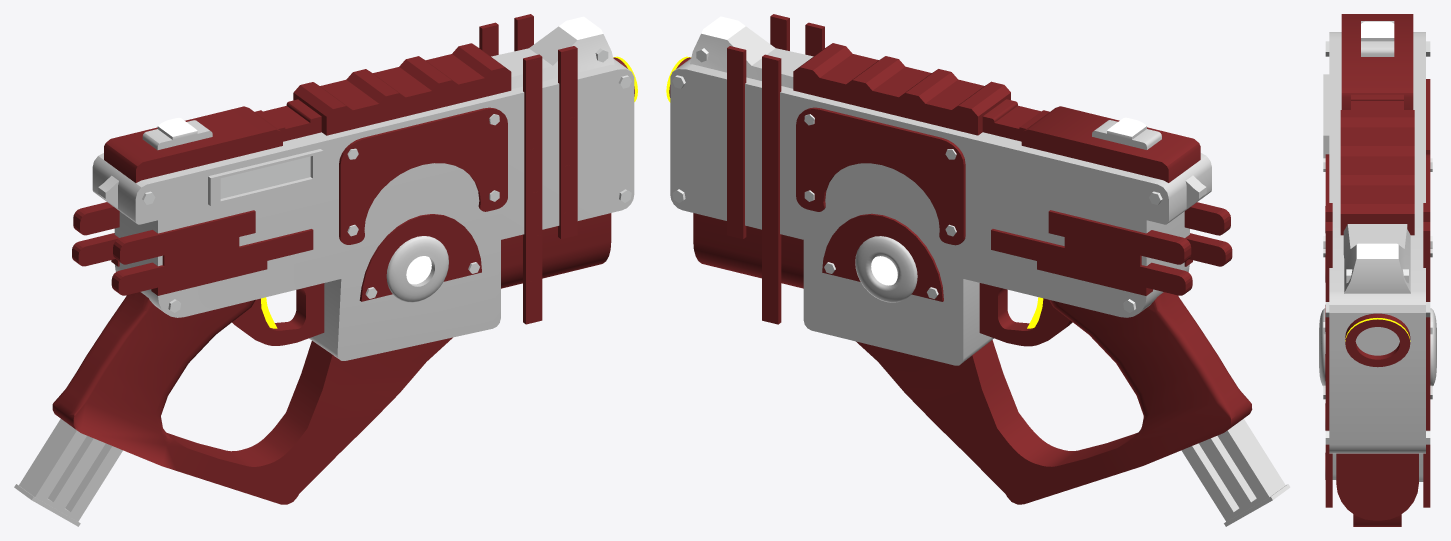
Rendered from AronsGunFinal1.fbx.
3 views of the same model, side by side, from view 1: azimuth 30°, elevation 25°; view 2: azimuth 150°, elevation 25°; view 3: azimuth 270°, elevation 25° (orthographic). The views are drawn at different scales.
Visible parts, largest first — view 1: Cube.009, Cube.027, Cube.022, Cube.028, Cube.020, Cube.019, Cube.018, Cylinder.004, Cylinder.014; view 2: Cube.009, Cube.027, Cube.022, Cube.028, Cube.020, Cube.019, Cylinder.004, Cylinder.014; view 3: Cube.009, Cube.028, Cube.027, Cube.020, Cylinder.014, Cylinder.004, Cube.022, Cube.018.
Boxes of the visible parts, x1,y1,x2,y2 form: Cube.009: (92, 58, 634, 360); Cube.027: (52, 56, 637, 504); Cube.022: (72, 107, 507, 301); Cube.028: (104, 16, 614, 182); Cube.020: (479, 14, 577, 324); Cube.019: (14, 419, 122, 526); Cube.018: (208, 149, 323, 205); Cylinder.004: (386, 236, 448, 302); Cylinder.014: (142, 48, 631, 312); Cube.009: (670, 58, 1211, 365); Cube.027: (666, 56, 1252, 504); Cube.022: (796, 107, 1232, 301); Cube.028: (690, 16, 1200, 182); Cube.020: (727, 14, 824, 324); Cube.019: (1181, 418, 1290, 526); Cylinder.004: (855, 236, 917, 302); Cylinder.014: (672, 48, 1162, 312); Cube.009: (1329, 32, 1425, 481); Cube.028: (1340, 14, 1414, 293); Cube.027: (1336, 313, 1418, 526); Cube.020: (1325, 203, 1430, 507); Cylinder.014: (1323, 41, 1432, 444); Cylinder.004: (1319, 308, 1436, 385); Cube.022: (1325, 79, 1430, 202); Cube.018: (1323, 74, 1329, 158).
Bounding box in the file's own units: 885 × 560 × 134.
Materials: 5 (3 with a texture image).
